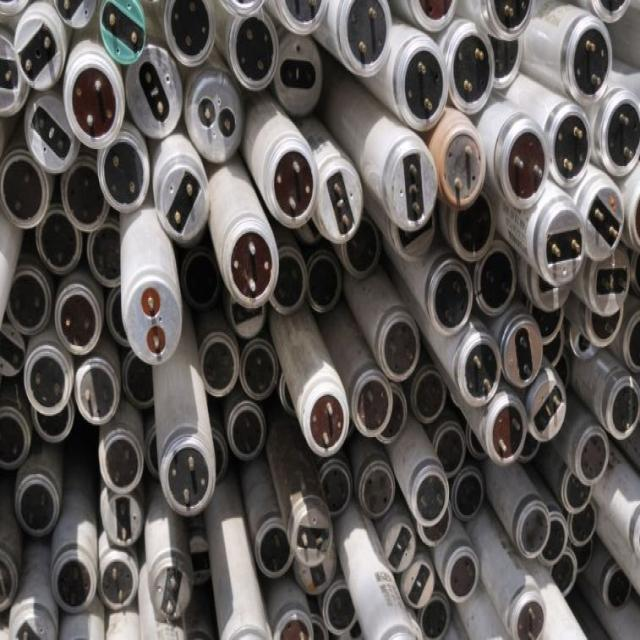electronic: (0, 0, 639, 639), (118, 204, 183, 365)
